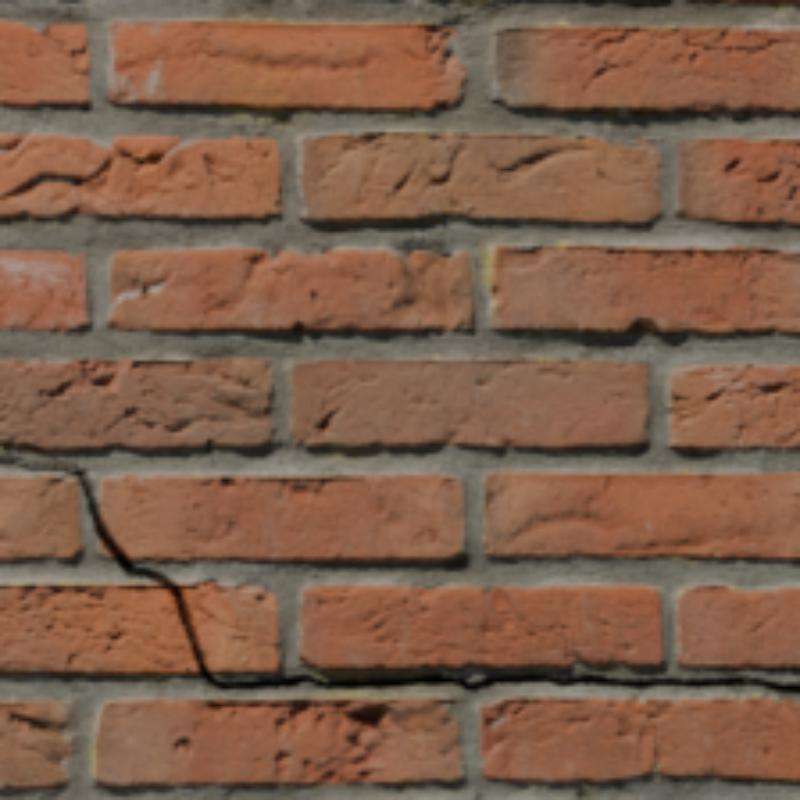pothole: (0, 457, 796, 689)
